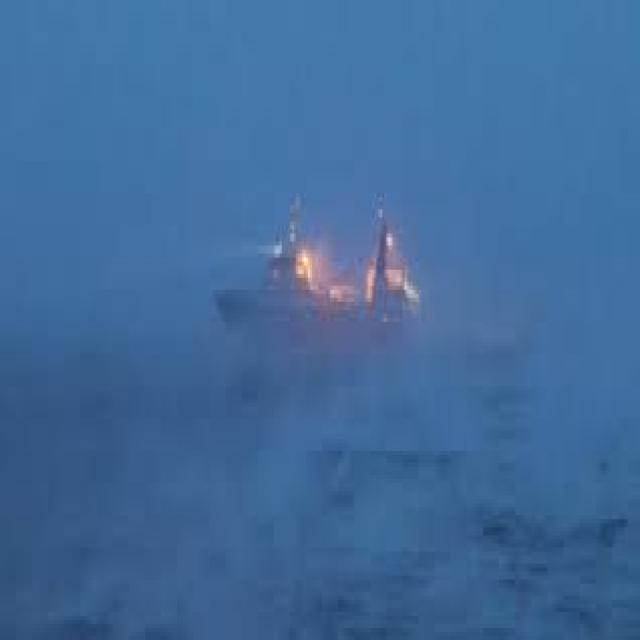passenger ship: (207, 180, 442, 390)
